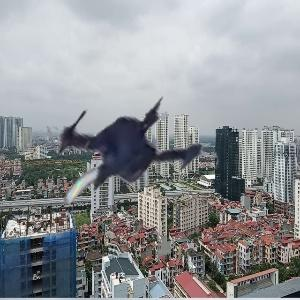drone: (23, 63, 212, 252)
